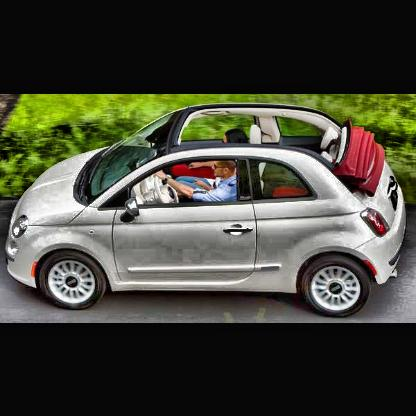FIAT 500 Convertible 2012: (7, 94, 410, 320)
